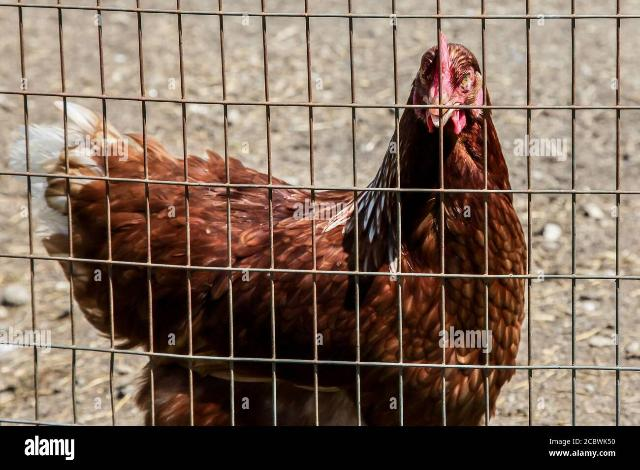Chicken: (13, 32, 526, 425)
